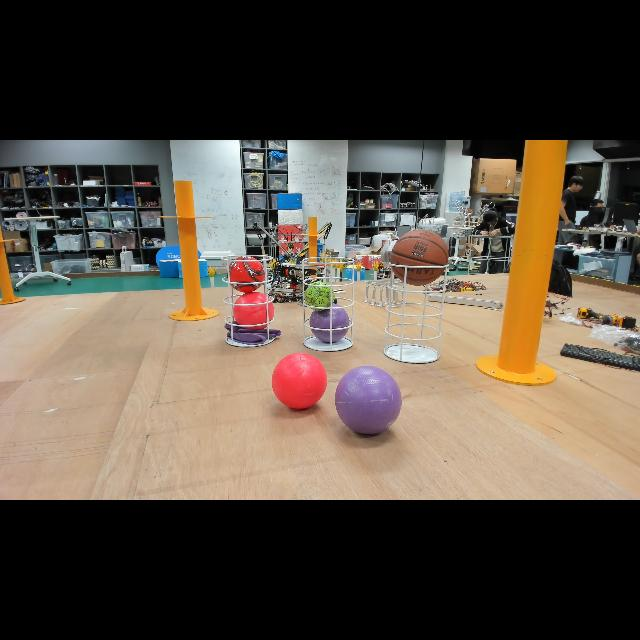P: (333, 362, 403, 436), (308, 300, 352, 346)
R: (270, 351, 330, 414), (230, 290, 276, 332)
S: (383, 260, 449, 364), (220, 255, 276, 348), (302, 256, 354, 352)
